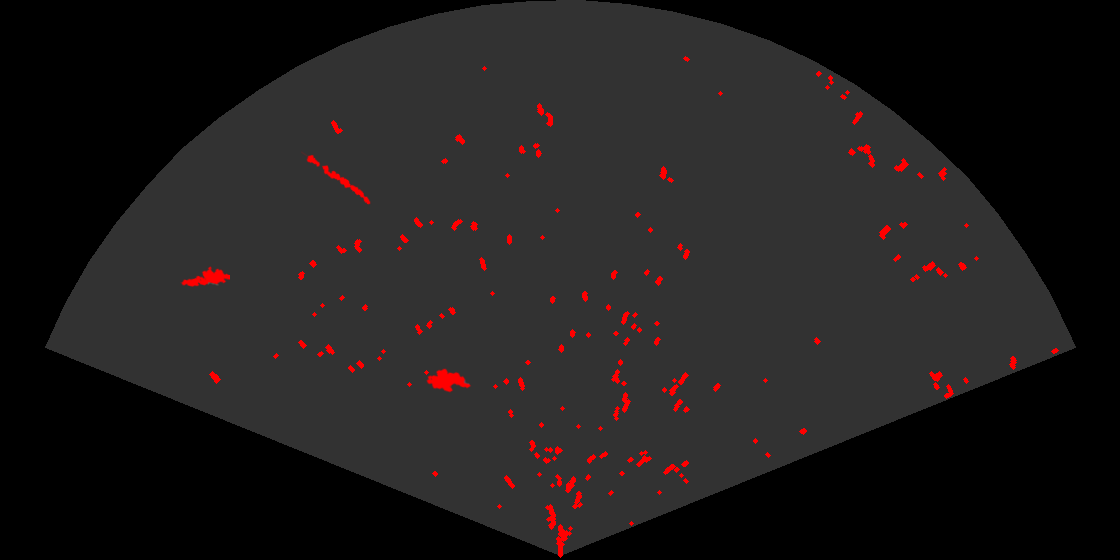AUV: (425, 367, 473, 394)
chain: (301, 150, 372, 206)
frogman: (180, 265, 230, 288)
